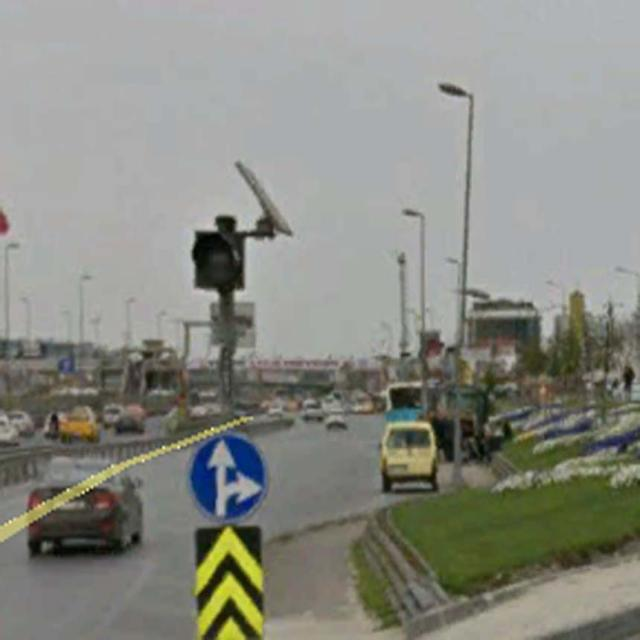ilerisag: (188, 435, 267, 521)
